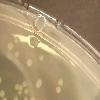white: (24, 56, 34, 68), (54, 85, 63, 97), (57, 75, 64, 89), (6, 40, 14, 51), (13, 49, 20, 59), (38, 53, 45, 62), (37, 78, 44, 87), (24, 87, 30, 96), (0, 89, 5, 99), (18, 83, 24, 91), (22, 80, 28, 88), (14, 83, 20, 91), (12, 94, 20, 100), (34, 82, 40, 89), (23, 94, 29, 100), (30, 94, 36, 100), (0, 75, 3, 86), (17, 90, 22, 96), (2, 96, 7, 100)
